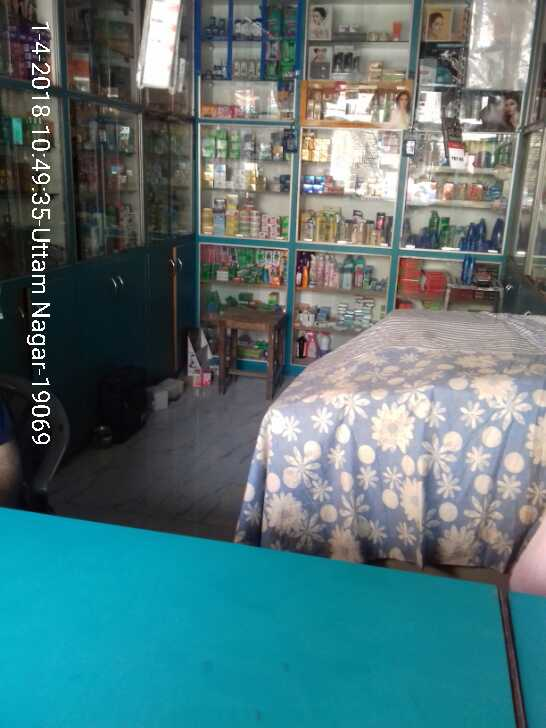vicks: (202, 14, 227, 39)
